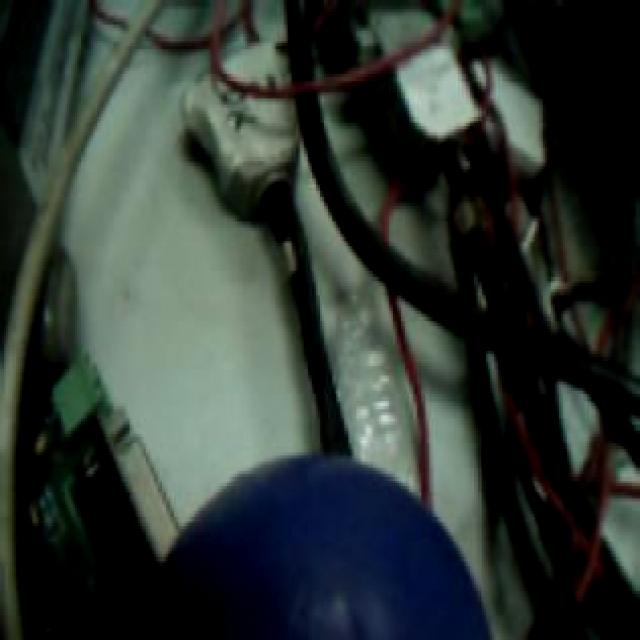BallPurple: (163, 452, 492, 640)
